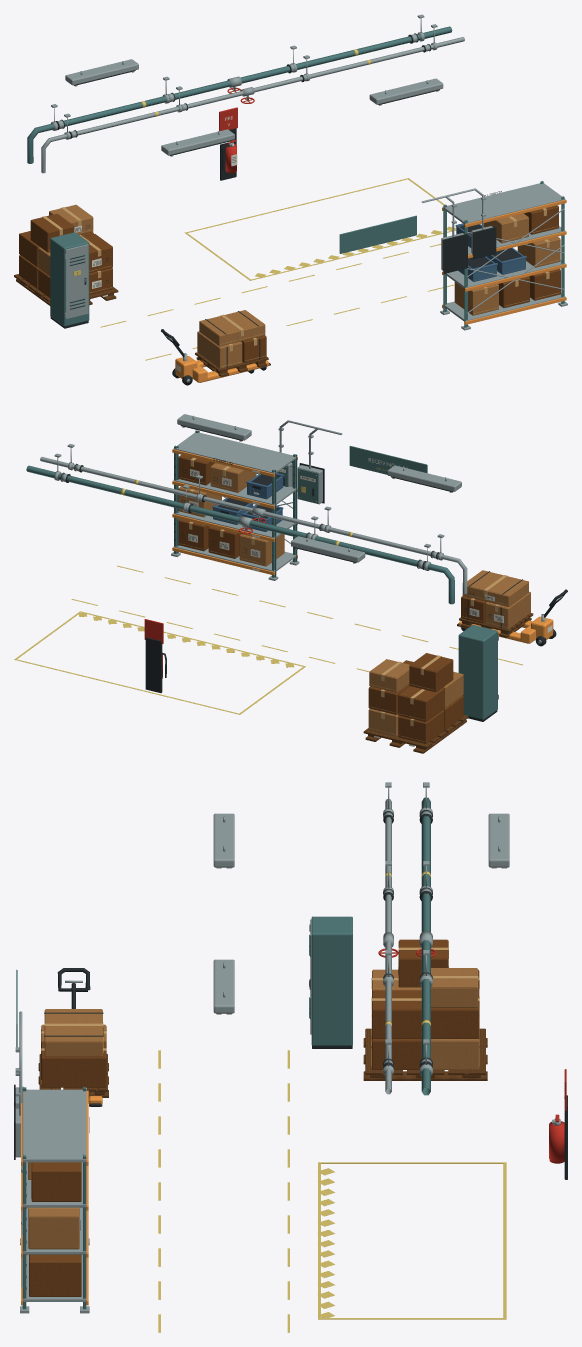
File: service-props.glb
The picture shows the model from 3 angles, top to bottom: view 1: azimuth 30°, elevation 25°; view 2: azimuth 150°, elevation 25°; view 3: azimuth 270°, elevation 25°; orthographic projection. The views are drawn at different scales.
Visible parts, largest first — view 1: Service corridor / 01 — satin galvanized steel, Service corridor / 03 — petrol blue powder coat, Service corridor / 06 — light kraft cardboard, Service corridor / 05 — kraft cardboard, Service corridor / 02 — charcoal rubber and markings, Service corridor / 04 — safety ochre enamel, Service corridor / 10 — faded safety yellow, Service corridor / 12 — blue polypropylene tote, Service corridor / 08 — sawn pallet timber, Service corridor / 07 — brown packing tape, Service corridor / 11 — fire equipment enamel; view 2: Service corridor / 01 — satin galvanized steel, Service corridor / 03 — petrol blue powder coat, Service corridor / 05 — kraft cardboard, Service corridor / 06 — light kraft cardboard, Service corridor / 02 — charcoal rubber and markings, Service corridor / 04 — safety ochre enamel, Service corridor / 10 — faded safety yellow, Service corridor / 08 — sawn pallet timber, Service corridor / 07 — brown packing tape, Service corridor / 12 — blue polypropylene tote, Service corridor / 09 — aged white printed labels, Service corridor / 11 — fire equipment enamel; view 3: Service corridor / 01 — satin galvanized steel, Service corridor / 05 — kraft cardboard, Service corridor / 03 — petrol blue powder coat, Service corridor / 06 — light kraft cardboard, Service corridor / 10 — faded safety yellow, Service corridor / 08 — sawn pallet timber, Service corridor / 02 — charcoal rubber and markings, Service corridor / 04 — safety ochre enamel, Service corridor / 07 — brown packing tape, Service corridor / 11 — fire equipment enamel.
Part boxes in pixels (<box>): Service corridor / 01 — satin galvanized steel: <box>41,14,567,382</box>; Service corridor / 03 — petrol blue powder coat: <box>27,26,564,327</box>; Service corridor / 06 — light kraft cardboard: <box>38,204,560,368</box>; Service corridor / 05 — kraft cardboard: <box>19,205,560,362</box>; Service corridor / 02 — charcoal rubber and markings: <box>50,33,521,385</box>; Service corridor / 04 — safety ochre enamel: <box>175,199,566,382</box>; Service corridor / 10 — faded safety yellow: <box>73,49,456,360</box>; Service corridor / 12 — blue polypropylene tote: <box>455,223,526,281</box>; Service corridor / 08 — sawn pallet timber: <box>14,274,268,376</box>; Service corridor / 07 — brown packing tape: <box>42,207,559,366</box>; Service corridor / 11 — fire equipment enamel: <box>219,87,254,173</box>; Service corridor / 01 — satin galvanized steel: <box>40,414,562,699</box>; Service corridor / 03 — petrol blue powder coat: <box>26,430,497,719</box>; Service corridor / 05 — kraft cardboard: <box>178,454,486,743</box>; Service corridor / 06 — light kraft cardboard: <box>178,463,530,736</box>; Service corridor / 02 — charcoal rubber and markings: <box>60,425,567,721</box>; Service corridor / 04 — safety ochre enamel: <box>172,449,553,643</box>; Service corridor / 10 — faded safety yellow: <box>14,467,522,714</box>; Service corridor / 08 — sawn pallet timber: <box>363,613,533,753</box>; Service corridor / 07 — brown packing tape: <box>179,457,507,741</box>; Service corridor / 12 — blue polypropylene tote: <box>212,473,284,531</box>; Service corridor / 09 — aged white printed labels: <box>182,426,552,746</box>; Service corridor / 11 — fire equipment enamel: <box>144,517,266,678</box>; Service corridor / 01 — satin galvanized steel: <box>15,782,560,1313</box>; Service corridor / 05 — kraft cardboard: <box>29,939,479,1296</box>; Service corridor / 03 — petrol blue powder coat: <box>16,797,430,1309</box>; Service corridor / 06 — light kraft cardboard: <box>28,968,479,1249</box>; Service corridor / 10 — faded safety yellow: <box>158,871,506,1332</box>; Service corridor / 08 — sawn pallet timber: <box>38,1028,487,1097</box>; Service corridor / 02 — charcoal rubber and markings: <box>14,809,567,1289</box>; Service corridor / 04 — safety ochre enamel: <box>21,1090,102,1305</box>; Service corridor / 07 — brown packing tape: <box>28,947,479,1245</box>; Service corridor / 11 — fire equipment enamel: <box>378,948,566,1163</box>.
Size of the model in its own units: 11.16 by 4.7 by 8.66.
13 materials, 3 textured.
